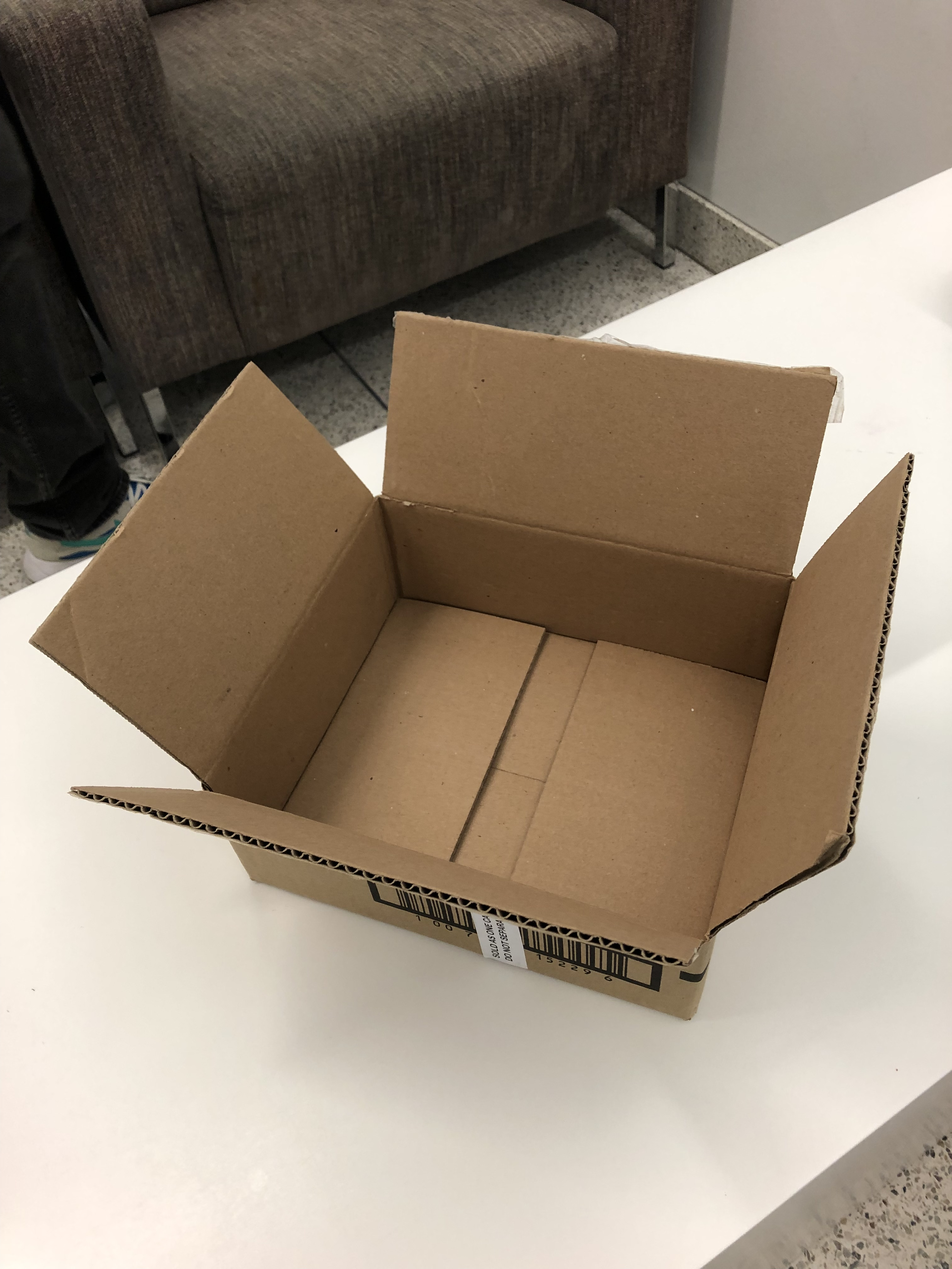box: (29, 309, 916, 1023)
crushed: (30, 307, 914, 963)
